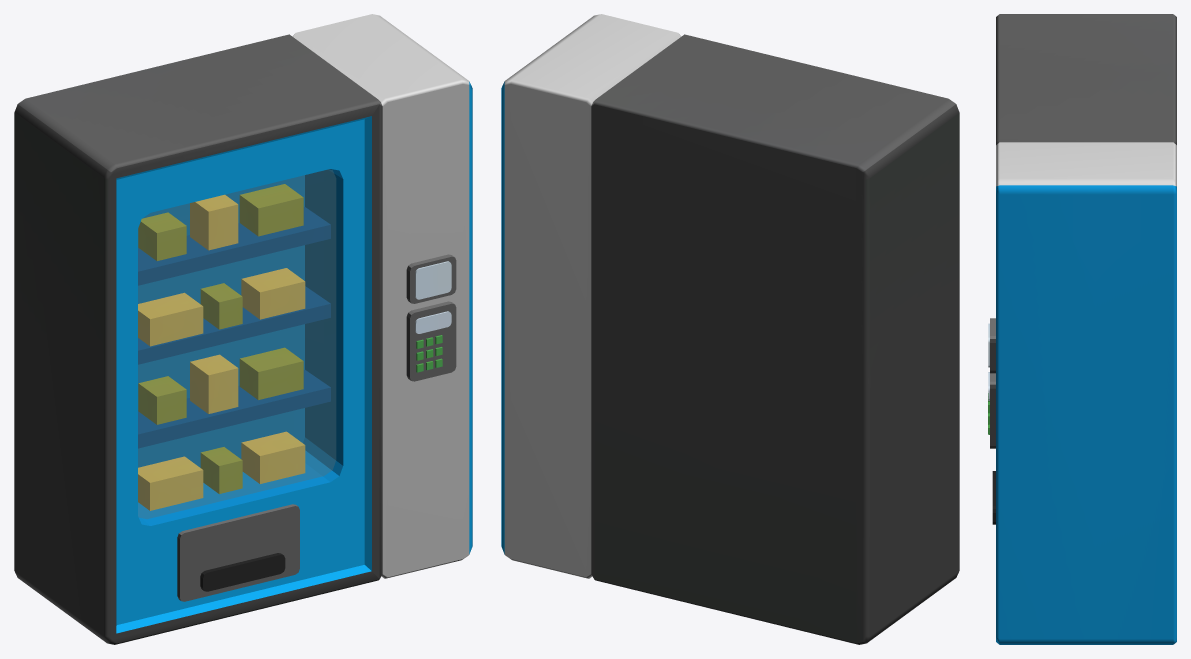
File: VendingMachine.fbx
3 views of the same model, side by side, from view 1: azimuth 30°, elevation 25°; view 2: azimuth 150°, elevation 25°; view 3: azimuth 270°, elevation 25° (orthographic). The views are drawn at different scales.
Visible parts, largest first — view 1: Body, Glass; view 2: Body; view 3: Body.
Boxes of the visible parts, bbox=[...] form: Body: bbox=[14, 14, 472, 644]; Glass: bbox=[138, 169, 335, 518]; Body: bbox=[501, 14, 959, 644]; Body: bbox=[988, 14, 1176, 644].
Bounding box in the file's own units: 356 × 443 × 163.
